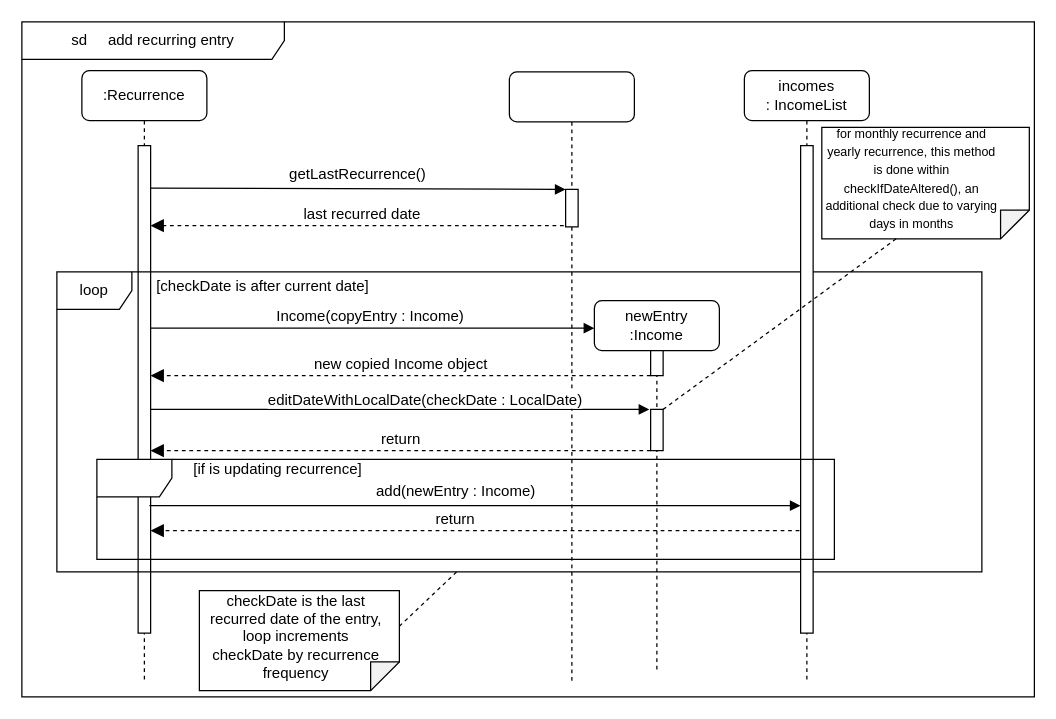
Some shapes in this 1056 by 719 pixel diagram are drawn without their labels. Here are the shapes that lost their labels. From the top down, the box of each, then its label:
(508, 71, 634, 684): recurringIncome : Income
(96, 458, 834, 559): opt
